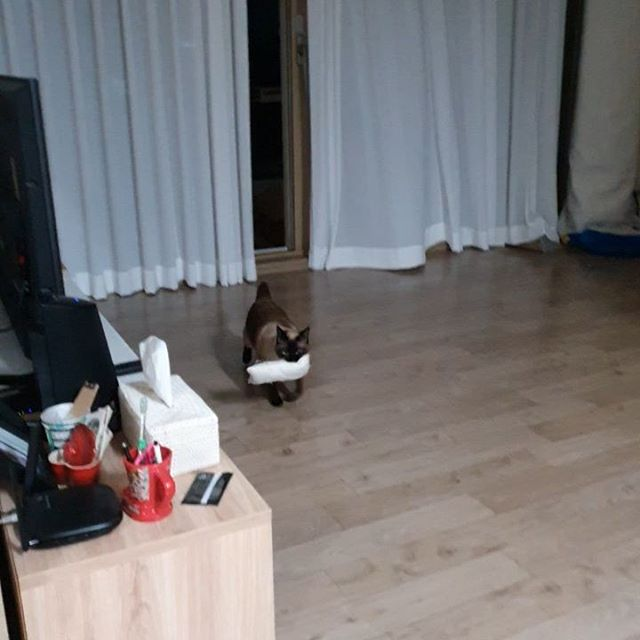cat: (276, 327, 309, 367)
